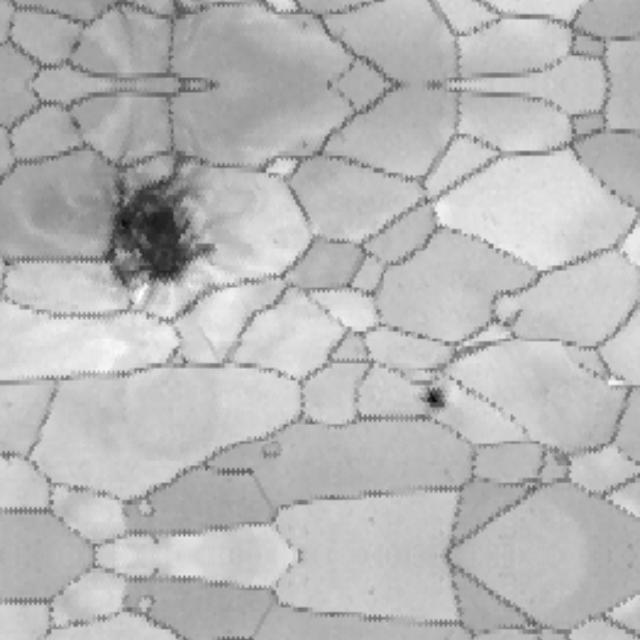good_void: (91, 128, 237, 320), (414, 374, 461, 421)
